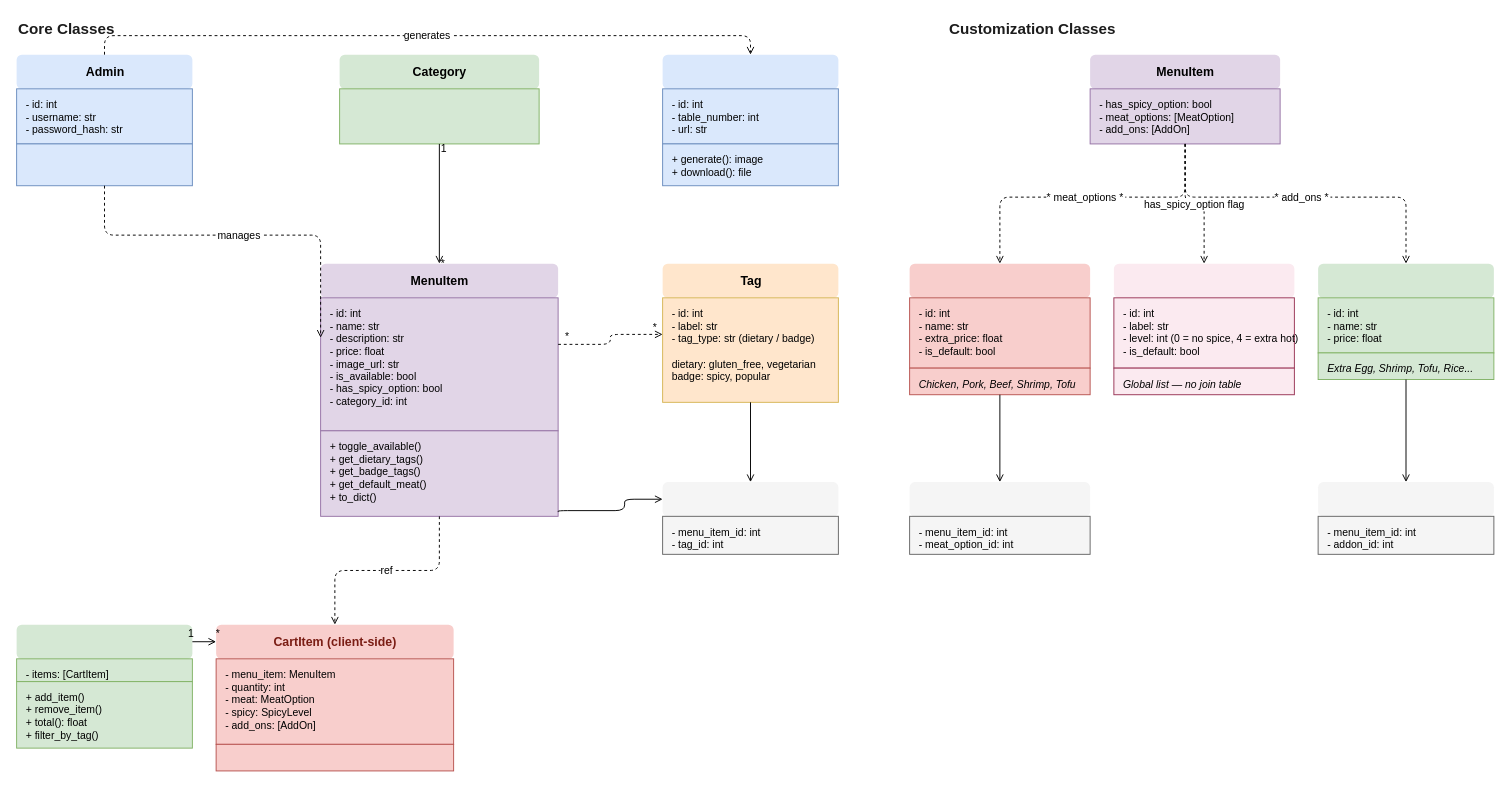
The diagram is 1511 pixels wide and 788 high, and some of its shapes have lost their labels. Here are the shapes that lost their labels. From the top down, the centre of each, then its label:
At pixel 750 71: "QRCode".
At pixel 439 116: "- id: int - name: str (appetizer / main / drink / dessert) - display_order: int".
At pixel 104 164: "+ login() / logout() + manage_menu()".
At pixel 999 280: "MeatOption".
At pixel 1203 280: "SpicyLevel".
At pixel 1405 280: "AddOn".
At pixel 750 499: "MenuItemTag".
At pixel 999 499: "menu_item_meat".
At pixel 1405 499: "menu_item_addon".
At pixel 104 641: "Cart (client-side)".
At pixel 334 757: "+ subtotal(): float".
